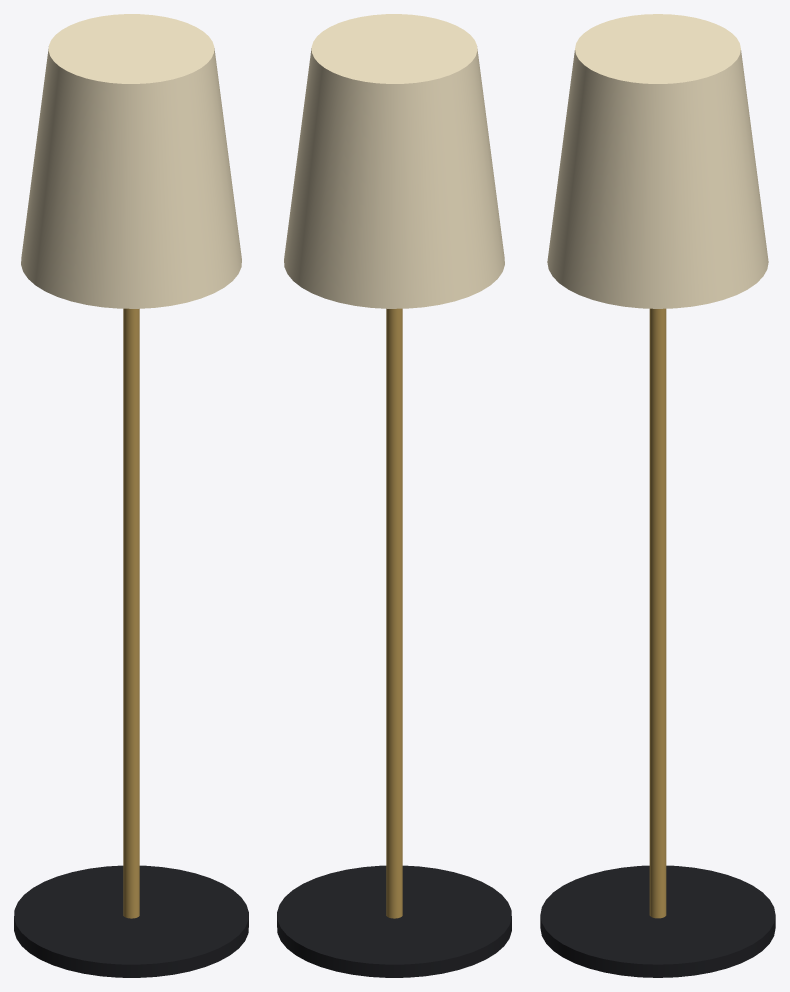
Rendered from floor_lamp.gltf.
The picture shows the model from 3 angles, left to right: view 1: azimuth 30°, elevation 25°; view 2: azimuth 150°, elevation 25°; view 3: azimuth 270°, elevation 25°; orthographic projection.
Visible parts, largest first — view 1: floor_lamp; view 2: floor_lamp; view 3: floor_lamp.
Part boxes in pixels (left/top/right/bottom): floor_lamp: left=14, top=14, right=248, bottom=977; floor_lamp: left=277, top=14, right=511, bottom=977; floor_lamp: left=540, top=14, right=775, bottom=977.
Size of the model in its own units: 0.4 by 1.65 by 0.4.
